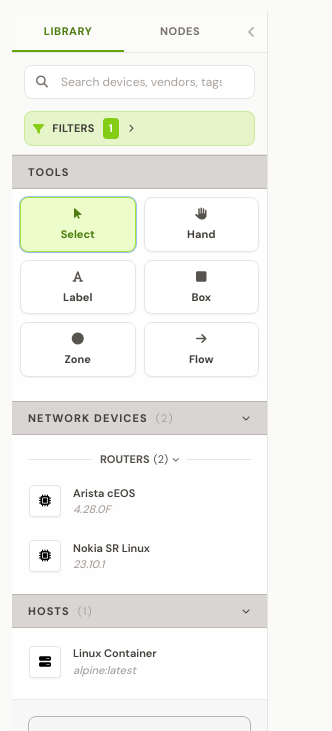
Test case: Sidebar › Category expansion › toggles category expansion when header is clicked
Click category header to collapse
Click the button "Hosts (1)" at (140, 611), box [12,594,267,628]
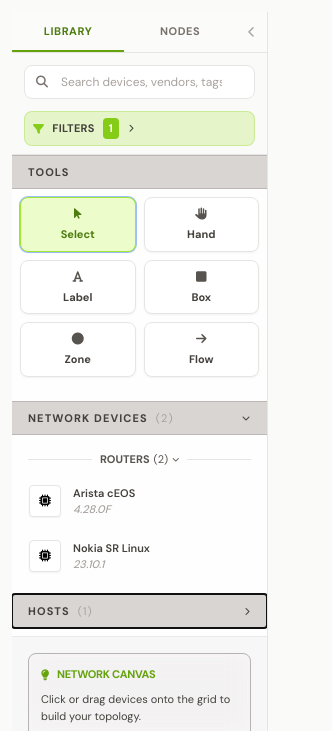
Click the button "Hosts (1)" at (140, 611), box [12,594,267,628]
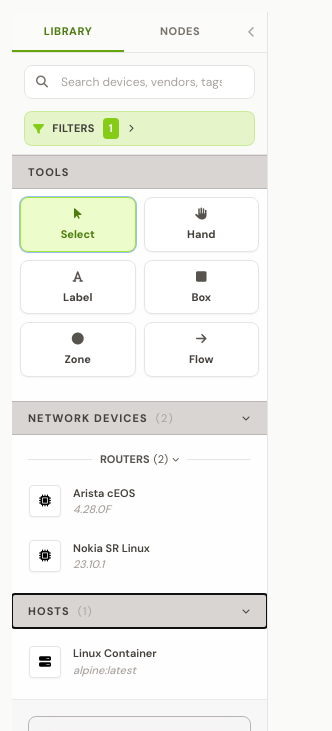
Expected: the text "Linux Container" is shown, [73,646,157,660]
